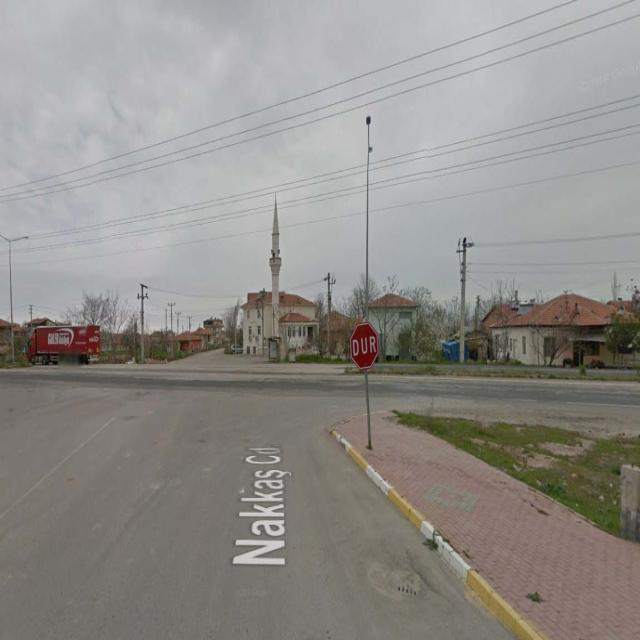dur: (350, 323, 378, 369)
